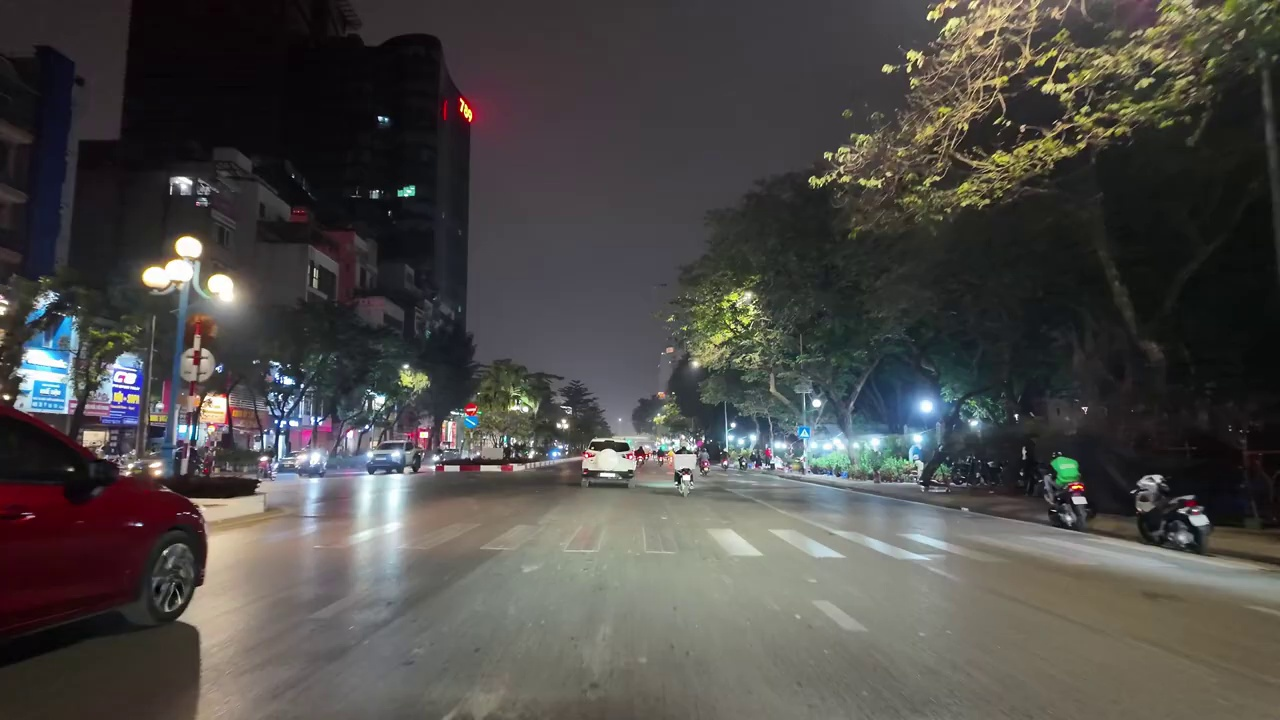acesa: (151, 258, 200, 296), (207, 275, 242, 307), (401, 368, 429, 393), (914, 395, 937, 418)
